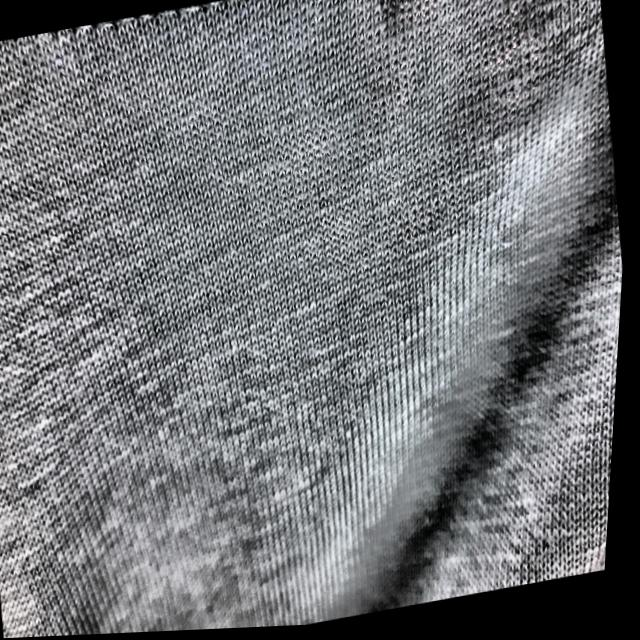Hole: (371, 0, 406, 20)
